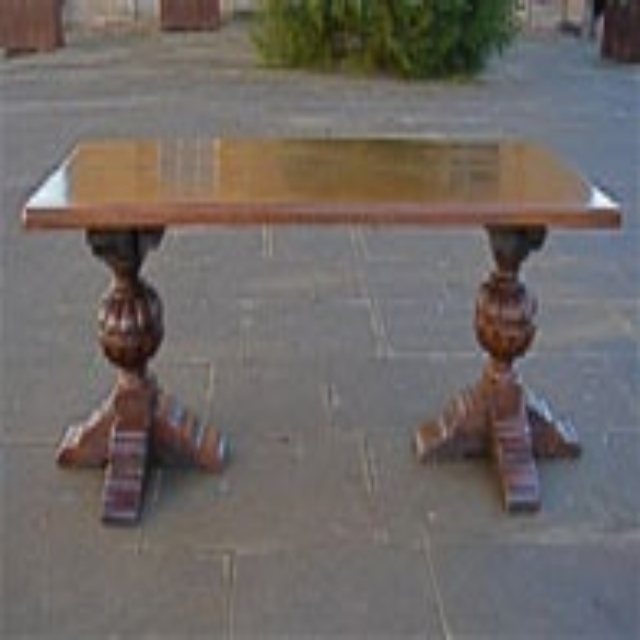obstacle: (23, 139, 617, 517)
